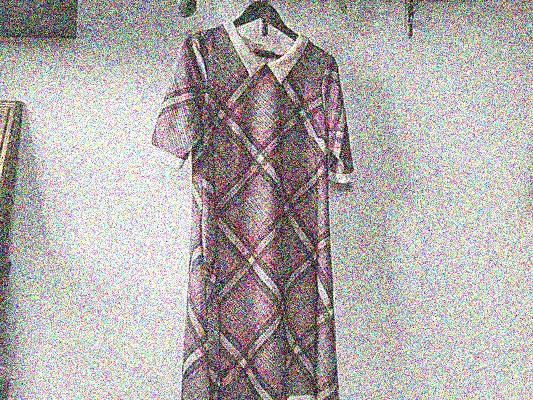Dress: (133, 8, 361, 397)
